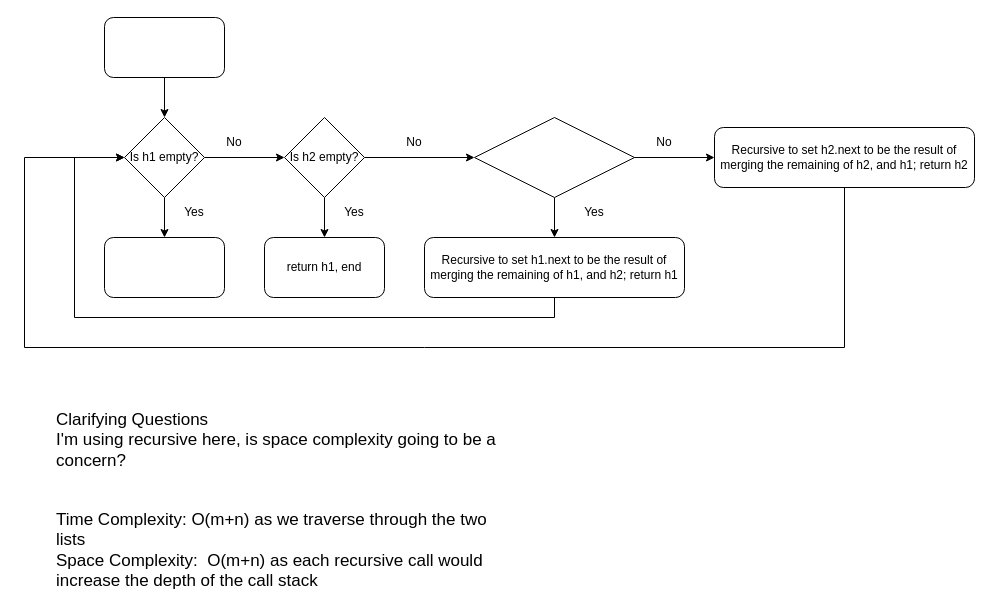
Image size: 992x610. Some labels were removed from this diagram. The centre of each missing label's shape, as x and y in pixels:
h1 SSN < h2 SSN?: pixel 554 157
return h2, end: pixel 164 267
Start with two linked list heads (h1/h2): pixel 164 47
